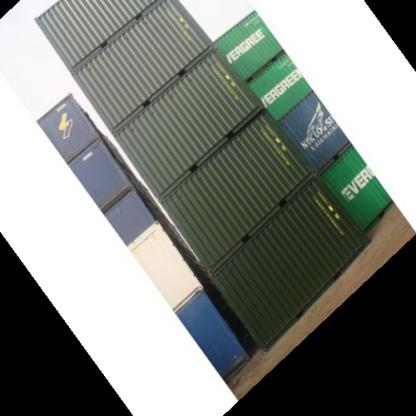Damage: (202, 51, 218, 69), (196, 166, 208, 188), (165, 87, 177, 102)
